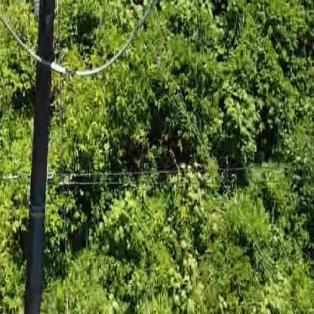Poste: (19, 0, 69, 314)
